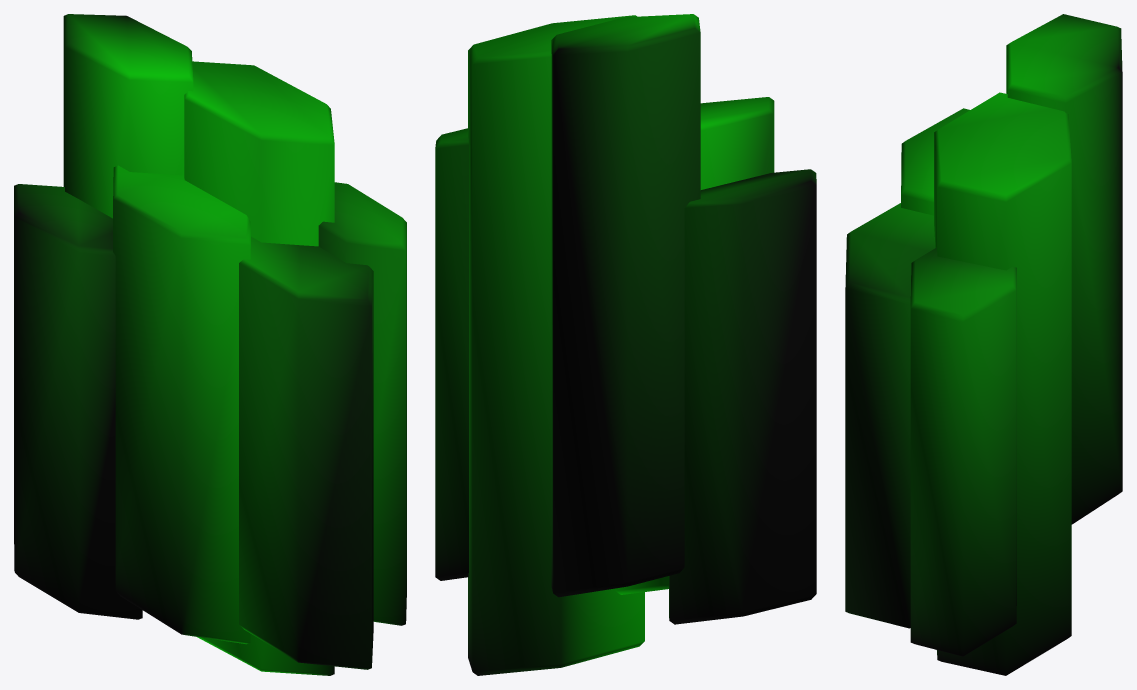
File: SM_RockHexic_RockSlanted04.fbx
3 renders of one model, left to right at view 1: azimuth 30°, elevation 25°; view 2: azimuth 150°, elevation 25°; view 3: azimuth 270°, elevation 25°, orthographic. The views are drawn at different scales.
Visible parts, largest first — view 1: SM_RockHexic_RockSlanted04; view 2: SM_RockHexic_RockSlanted04; view 3: SM_RockHexic_RockSlanted04.
Part boxes in pixels (left/top/right/bottom): SM_RockHexic_RockSlanted04: left=14, top=14, right=406, bottom=675; SM_RockHexic_RockSlanted04: left=435, top=14, right=816, bottom=675; SM_RockHexic_RockSlanted04: left=845, top=14, right=1122, bottom=675.
Bounding box in the file's own units: 1047 × 777 × 1744.
